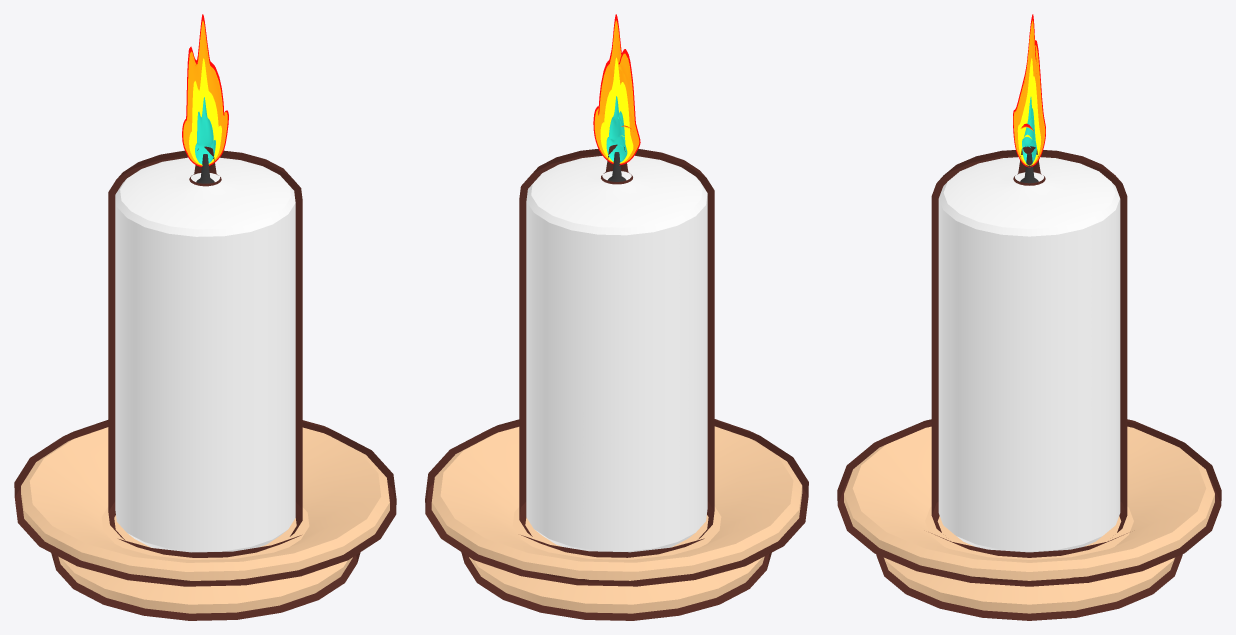
The model's file is candle_lit.glb.
3 renders of one model, left to right at view 1: azimuth 30°, elevation 25°; view 2: azimuth 150°, elevation 25°; view 3: azimuth 270°, elevation 25°, orthographic.
Parts seen in each view (by area): view 1: pCylinder3, pSphere3, pSphere2, pSphere1, line1; view 2: pCylinder3, pSphere3, pSphere2, pSphere1, line1; view 3: pCylinder3, pSphere3, pSphere2, line1.
Boxes of the visible parts, box(x1,y1,x2,y2) form: pCylinder3: box(14, 146, 396, 620); pSphere3: box(183, 21, 227, 165); pSphere2: box(189, 58, 221, 165); pSphere1: box(195, 97, 215, 164); line1: box(182, 14, 228, 166); pCylinder3: box(425, 144, 808, 620); pSphere3: box(594, 20, 639, 163); pSphere2: box(600, 57, 633, 163); pSphere1: box(606, 96, 627, 162); line1: box(593, 14, 640, 165); pCylinder3: box(837, 146, 1221, 620); pSphere3: box(1013, 20, 1045, 165); pSphere2: box(1017, 58, 1041, 165); line1: box(1013, 14, 1045, 167).
Bounding box in the file's own units: 0.0424 × 0.0659 × 0.0424.
